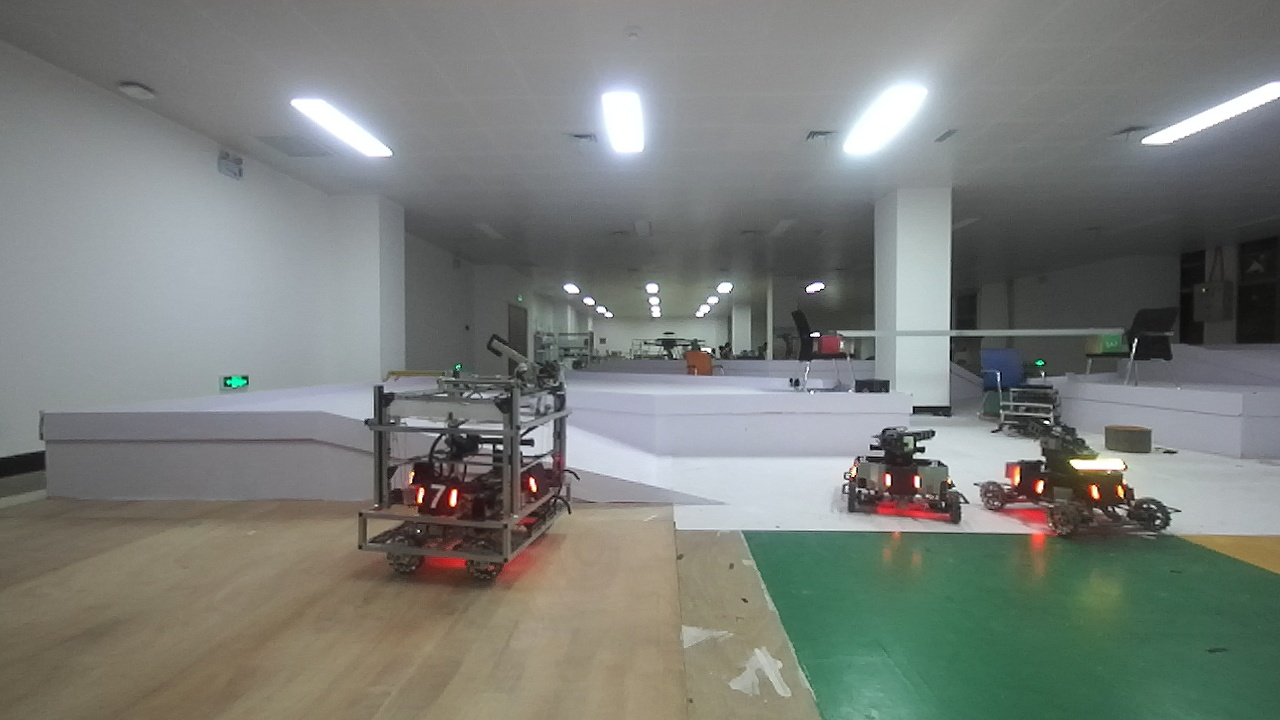car: (335, 348, 588, 605), (983, 412, 1184, 561), (835, 411, 970, 542)
